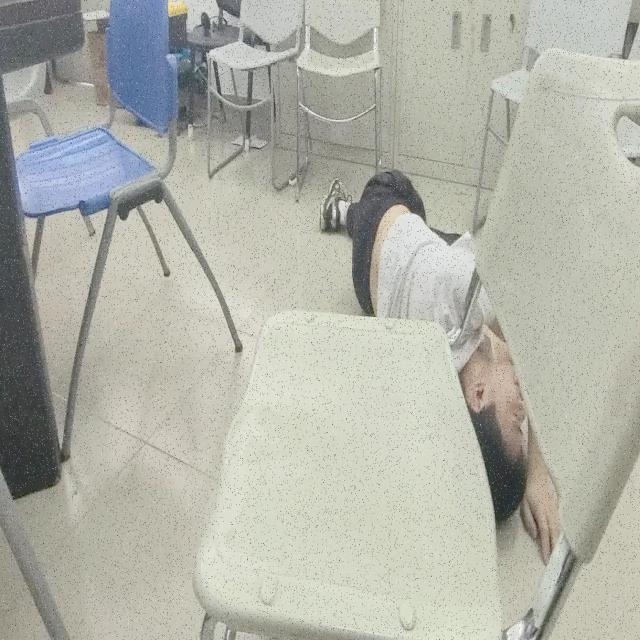fall: (322, 159, 568, 559)
